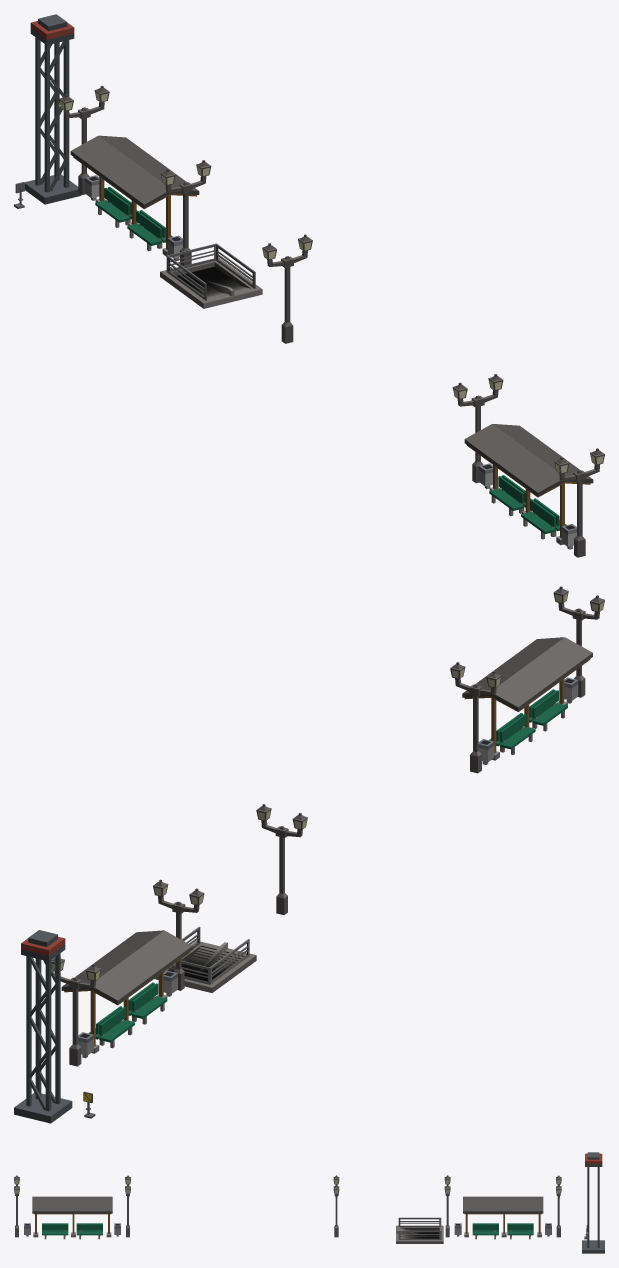
File: platform_details.fbx
The picture shows the model from 3 angles, top to bottom: view 1: azimuth 30°, elevation 25°; view 2: azimuth 150°, elevation 25°; view 3: azimuth 270°, elevation 25°; orthographic projection. The views are drawn at different scales.
Parts seen in each view (by area): view 1: SM_Prop_Pole_02, SM_Bld_StationCover_01, SM_Bld_StationCover_02, SM_Env_UnderpassEntrance_01, SM_Prop_LightPole_03, SM_Prop_LightPole_06, SM_Prop_LightPole_02, SM_Prop_LightPole_05, SM_Prop_LightPole_01, SM_Prop_Bench_08, SM_Prop_Bench_04, SM_Prop_Bench_01 (+1 smaller); view 2: SM_Prop_Pole_02, SM_Bld_StationCover_02, SM_Bld_StationCover_01, SM_Env_UnderpassEntrance_01, SM_Prop_LightPole_05, SM_Prop_LightPole_03, SM_Prop_LightPole_01, SM_Prop_LightPole_06, SM_Prop_LightPole_02, SM_Prop_Bench_04, SM_Prop_Bench_01, SM_Prop_Bench_05 (+1 smaller); view 3: SM_Bld_StationCover_01, SM_Bld_StationCover_02, SM_Env_UnderpassEntrance_01, SM_Prop_Pole_02, SM_Prop_Bench_06, SM_Prop_Bench_02, SM_Prop_Bench_07, SM_Prop_Bench_03, SM_Prop_LightPole_02, SM_Prop_LightPole_03, SM_Prop_LightPole_01, SM_Prop_LightPole_05 (+1 smaller).
Part boxes in pixels (<box>): SM_Prop_Pole_02: <box>25,14,81,204</box>; SM_Bld_StationCover_01: <box>70,135,199,256</box>; SM_Bld_StationCover_02: <box>464,424,593,545</box>; SM_Env_UnderpassEntrance_01: <box>160,243,262,308</box>; SM_Prop_LightPole_03: <box>262,234,312,343</box>; SM_Prop_LightPole_06: <box>554,448,604,557</box>; SM_Prop_LightPole_02: <box>160,160,211,265</box>; SM_Prop_LightPole_05: <box>452,374,503,483</box>; SM_Prop_LightPole_01: <box>59,85,109,194</box>; SM_Prop_Bench_08: <box>489,476,524,516</box>; SM_Prop_Bench_04: <box>127,211,162,251</box>; SM_Prop_Bench_01: <box>95,187,130,227</box>; SM_Prop_Pole_02: <box>14,930,72,1123</box>; SM_Bld_StationCover_02: <box>462,637,592,760</box>; SM_Bld_StationCover_01: <box>61,930,192,1053</box>; SM_Env_UnderpassEntrance_01: <box>154,927,256,992</box>; SM_Prop_LightPole_05: <box>450,662,501,773</box>; SM_Prop_LightPole_03: <box>256,804,307,914</box>; SM_Prop_LightPole_01: <box>51,957,100,1066</box>; SM_Prop_LightPole_06: <box>553,586,604,697</box>; SM_Prop_LightPole_02: <box>153,879,204,990</box>; SM_Prop_Bench_04: <box>131,983,167,1024</box>; SM_Prop_Bench_01: <box>99,1007,134,1048</box>; SM_Prop_Bench_05: <box>532,690,567,731</box>; SM_Bld_StationCover_01: <box>463,1196,543,1237</box>; SM_Bld_StationCover_02: <box>32,1196,112,1237</box>; SM_Env_UnderpassEntrance_01: <box>396,1217,443,1243</box>; SM_Prop_Pole_02: <box>582,1152,604,1253</box>; SM_Prop_Bench_06: <box>42,1224,68,1239</box>; SM_Prop_Bench_02: <box>507,1224,533,1239</box>; SM_Prop_Bench_07: <box>76,1224,102,1239</box>; SM_Prop_Bench_03: <box>472,1224,498,1239</box>; SM_Prop_LightPole_02: <box>444,1175,450,1237</box>; SM_Prop_LightPole_03: <box>333,1175,339,1237</box>; SM_Prop_LightPole_01: <box>556,1175,561,1237</box>; SM_Prop_LightPole_05: <box>125,1175,130,1237</box>.
Size of the model in its own units: 658 by 1496 by 8507.
